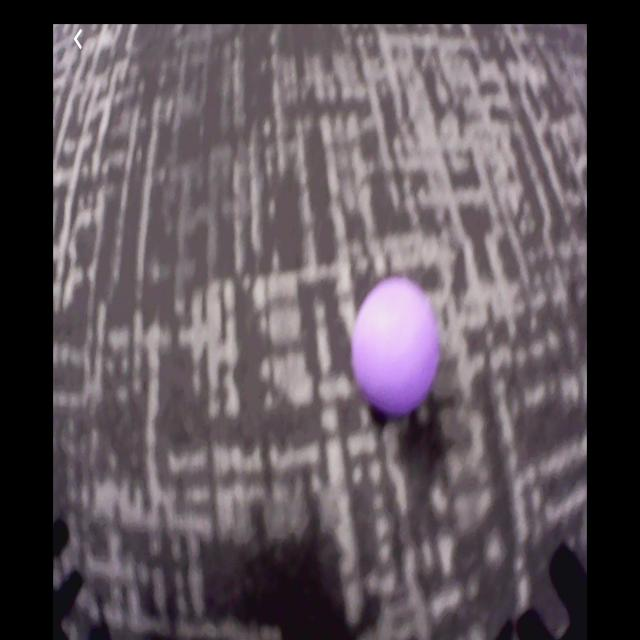ball: (355, 278, 441, 416)
